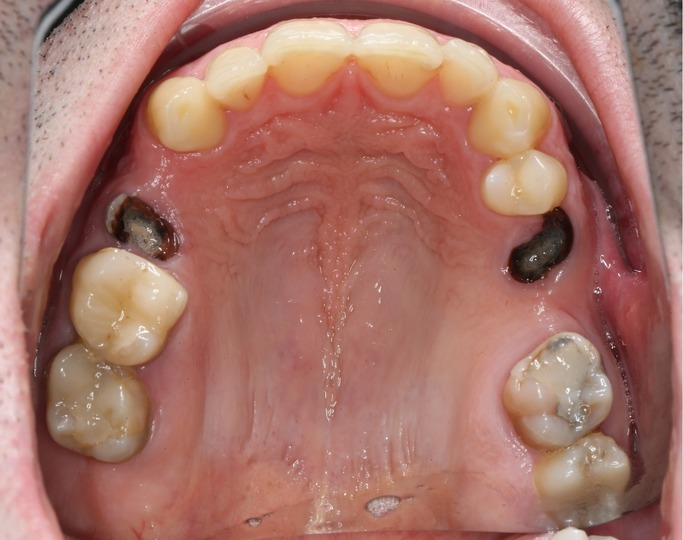UL1BC_healthy: (476, 152, 571, 214)
UL1M_decay: (505, 331, 620, 439)
UL2BC_decay: (499, 209, 581, 286)
UL2M_decay: (531, 444, 636, 526)
ULCI_healthy: (351, 21, 443, 97)
ULC_healthy: (465, 81, 549, 159)
ULLI_healthy: (441, 40, 497, 104)
UR1BC_decay: (109, 187, 185, 264)
UR1M_healthy: (45, 348, 157, 461)
UR2BC_healthy: (71, 251, 190, 362)
URCI_healthy: (265, 18, 351, 103)
URC_healthy: (147, 82, 225, 152)
URLI_healthy: (209, 52, 269, 107)
